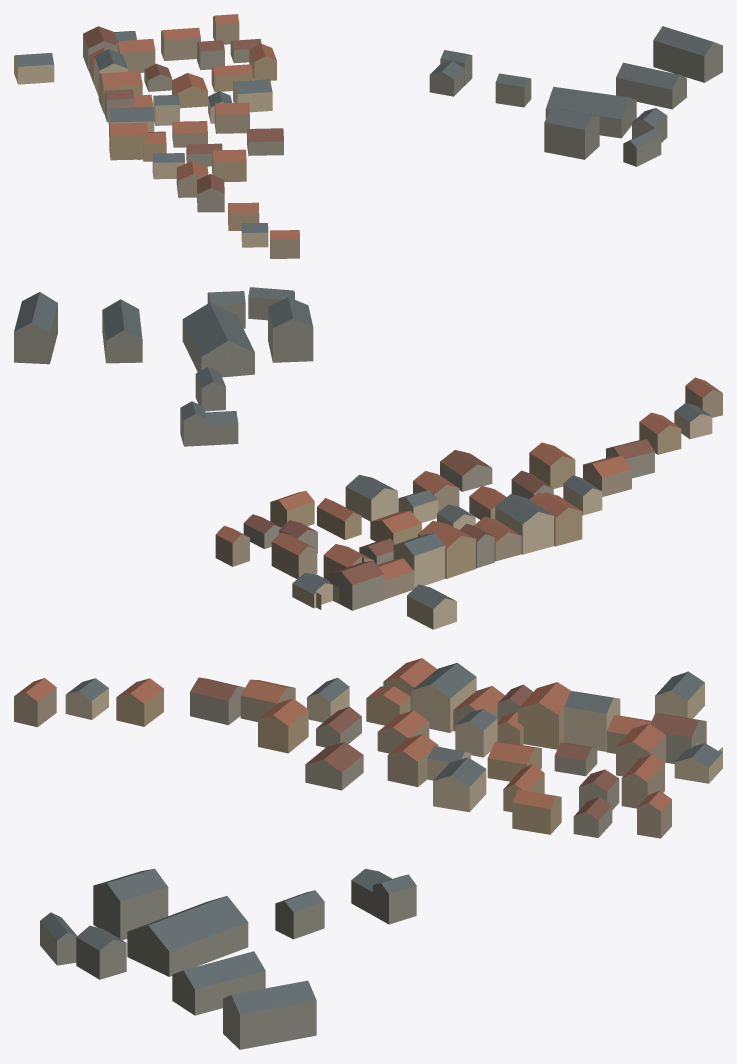
3 views of the same model, one above another, from view 1: azimuth 30°, elevation 25°; view 2: azimuth 150°, elevation 25°; view 3: azimuth 270°, elevation 25° (orthographic). The views are drawn at different scales.
Parts seen in each view (by area): view 1: C_5_1; view 2: C_5_1; view 3: C_5_1.
Part boxes in pixels (<box>): C_5_1: <box>14,14,722,258</box>; C_5_1: <box>14,287,722,629</box>; C_5_1: <box>14,658,722,1049</box>.
Size of the model in its own units: 227 by 14.89 by 192.
